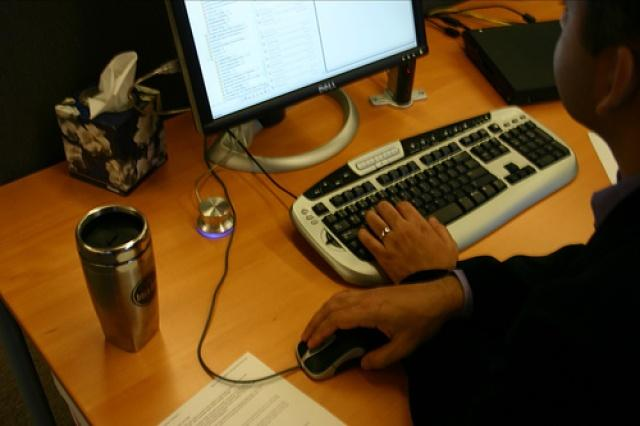AIO PC-Monitor-TV: (162, 0, 429, 136)
